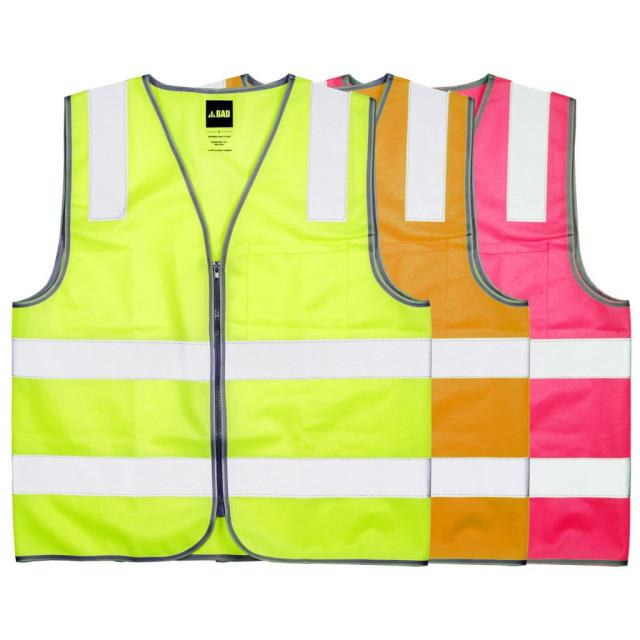Reflective-Jacket: (9, 52, 636, 568)
